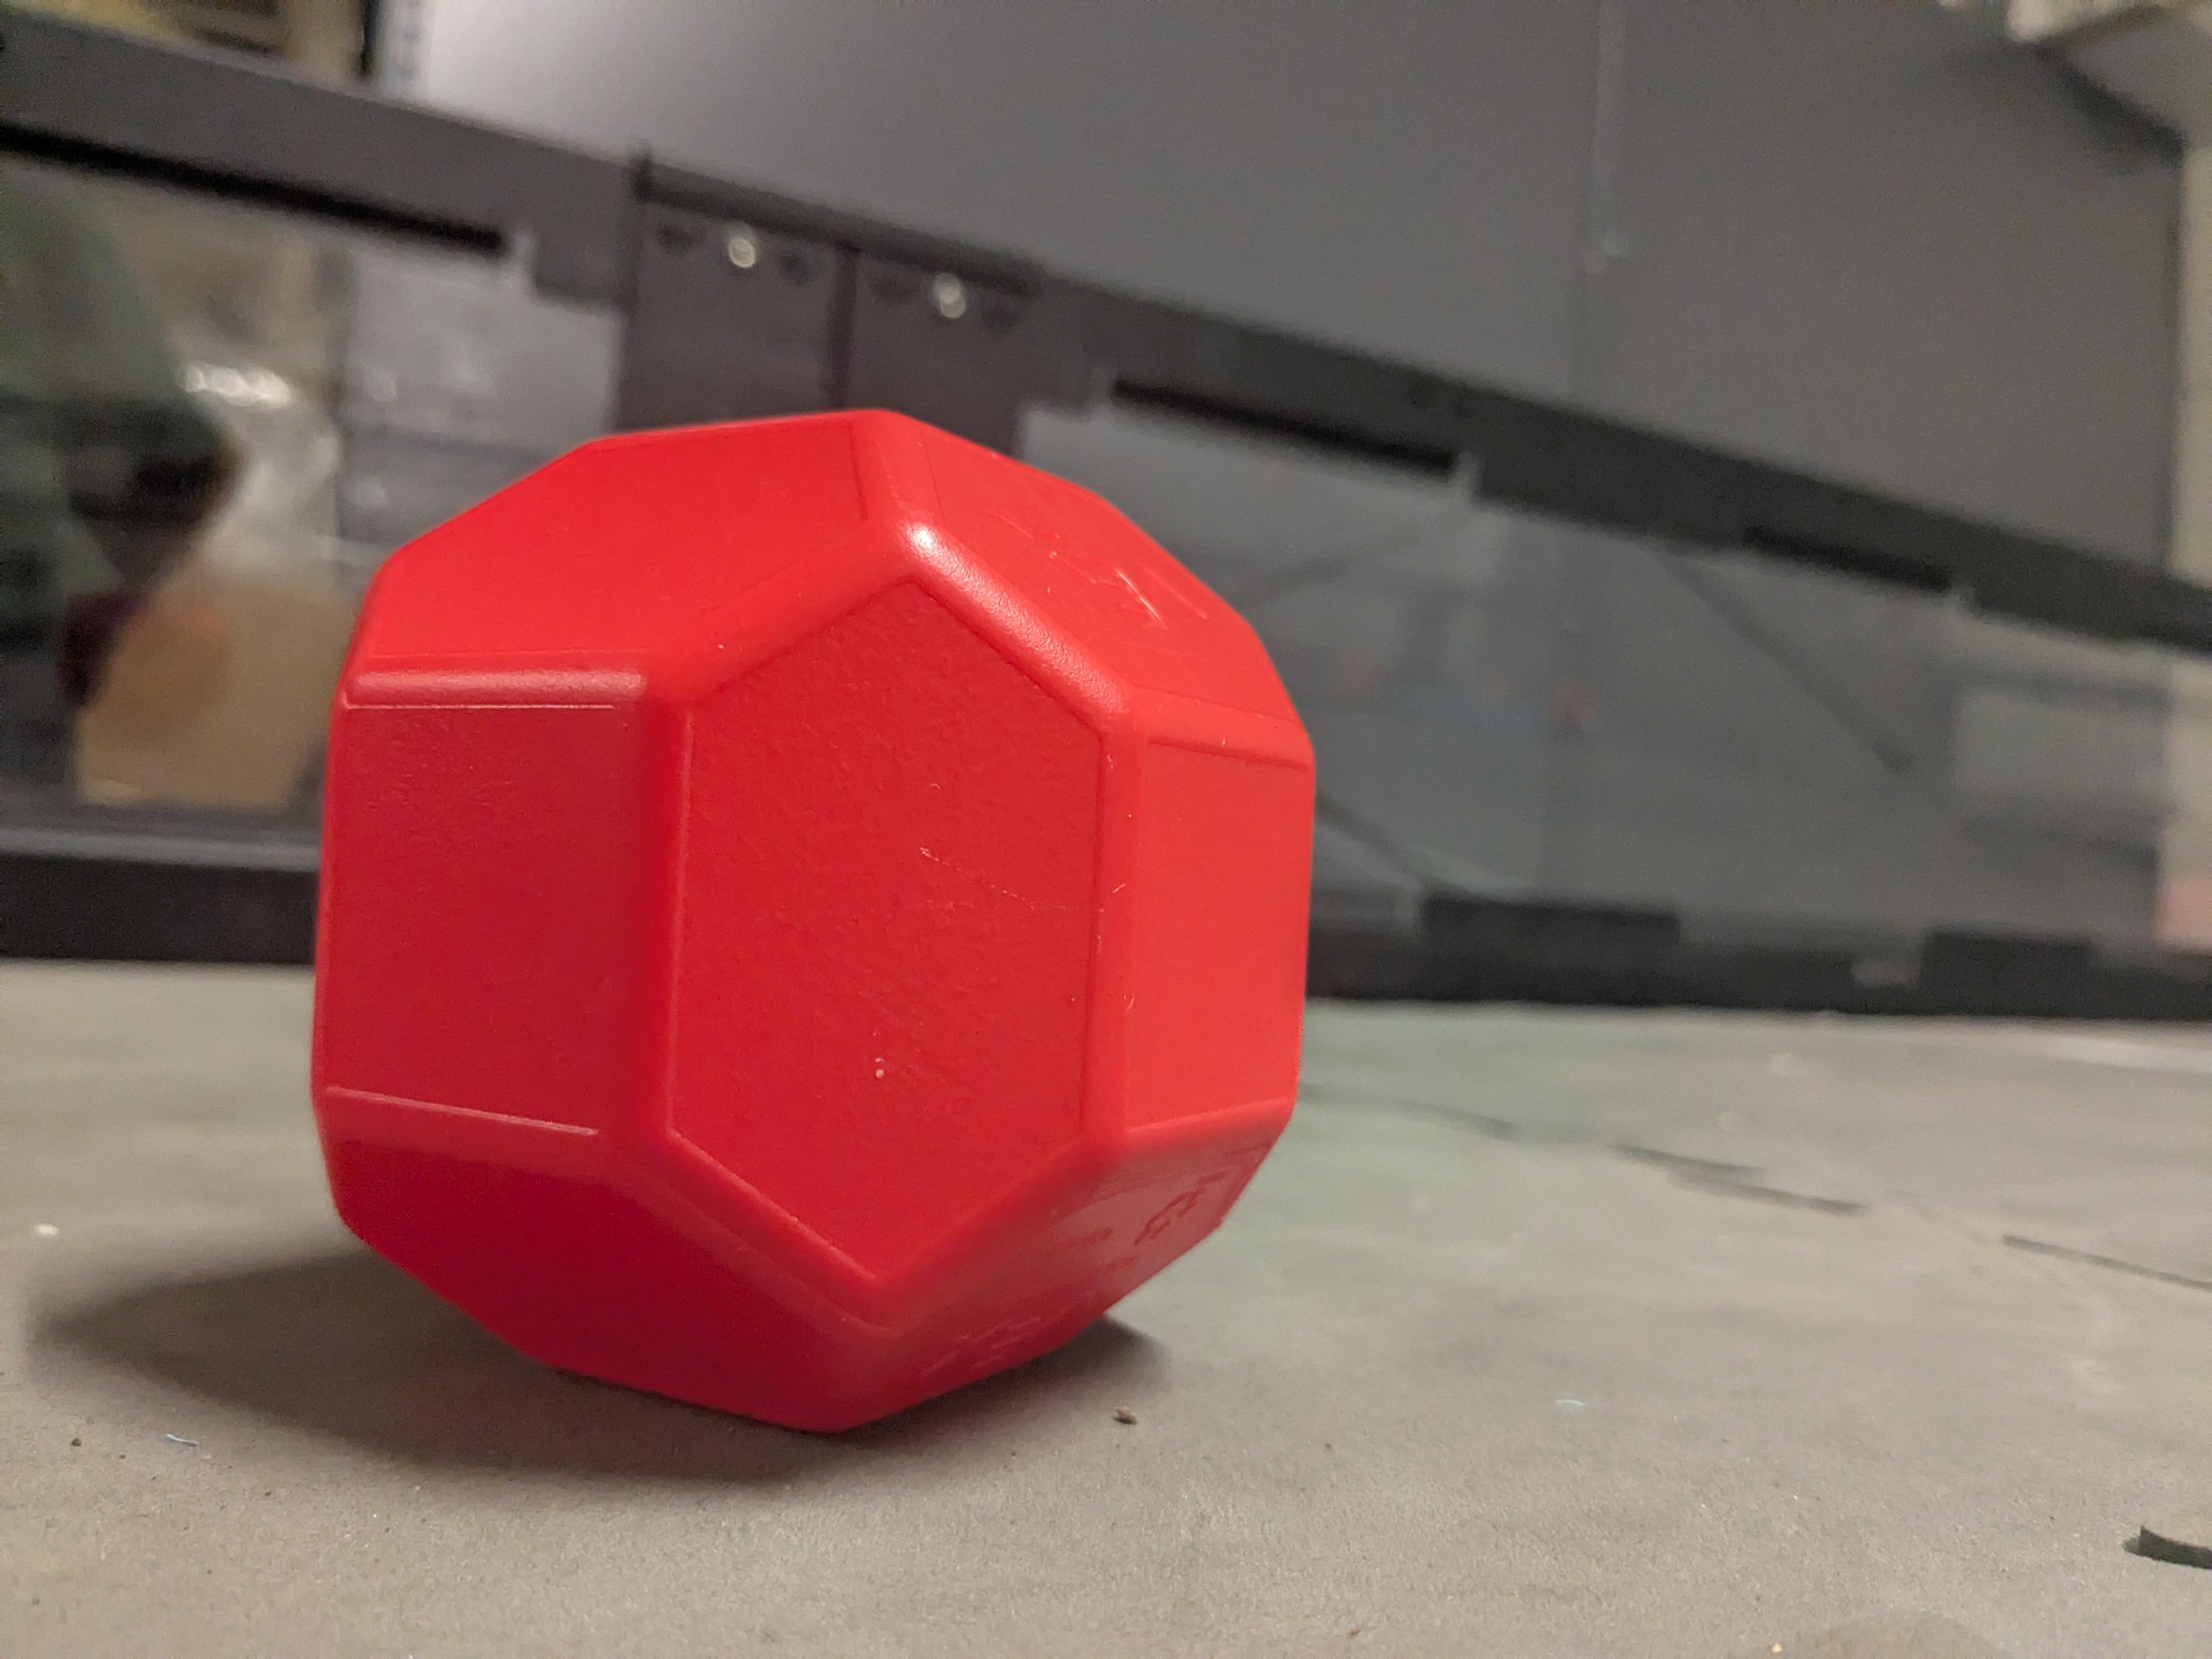Vex-Pieces-RED: (307, 411, 1320, 1417)
